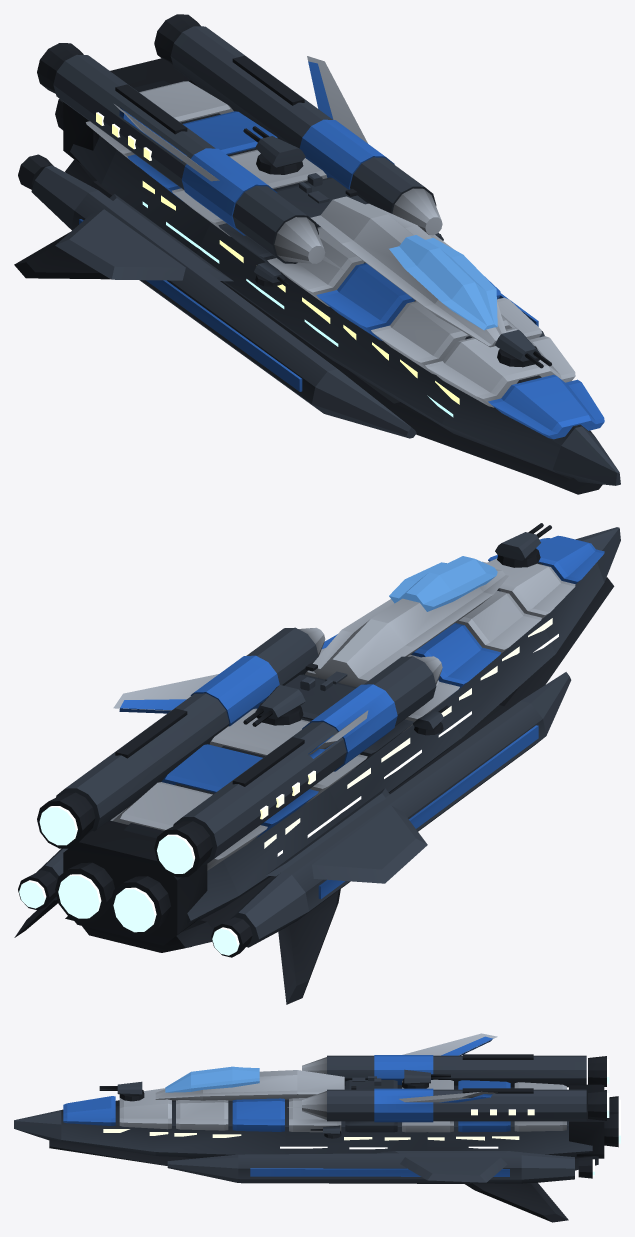
Rendered from corvette.glb.
3 views of the same model, one above another, from view 1: azimuth 30°, elevation 25°; view 2: azimuth 150°, elevation 25°; view 3: azimuth 270°, elevation 25° (orthographic). The views are drawn at different scales.
Visible parts, largest first — view 1: hull_corvette; view 2: hull_corvette; view 3: hull_corvette.
Boxes of the visible parts, x1,y1,x2,y2 form: hull_corvette: (14,14,620,494); hull_corvette: (14,523,620,1004); hull_corvette: (14,1033,620,1222).
Bounding box in the file's own units: 19.13 × 11.21 × 51.4.
